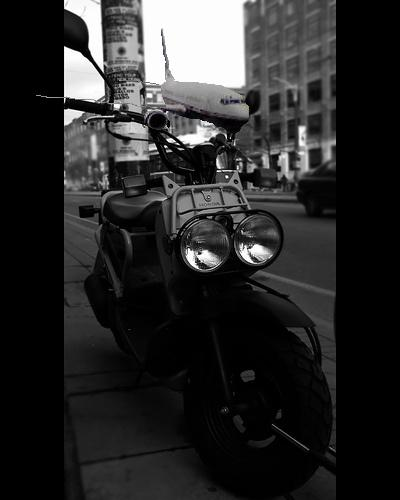tampered: (37, 29, 249, 142)
